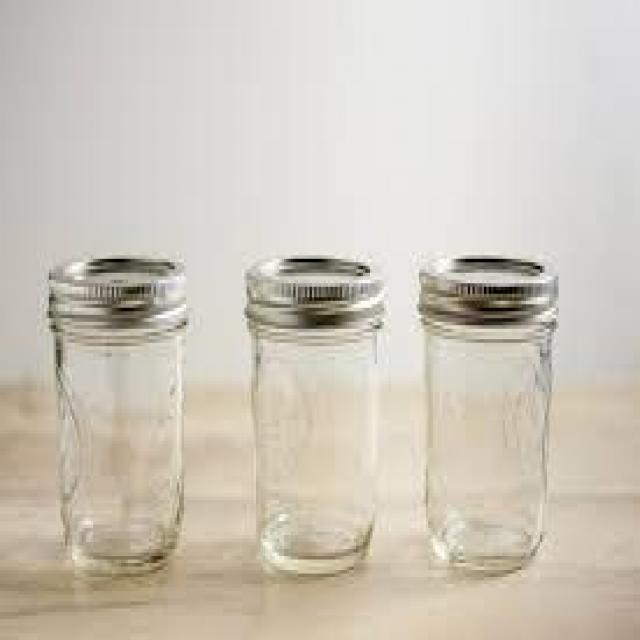glass: (240, 246, 388, 572)
